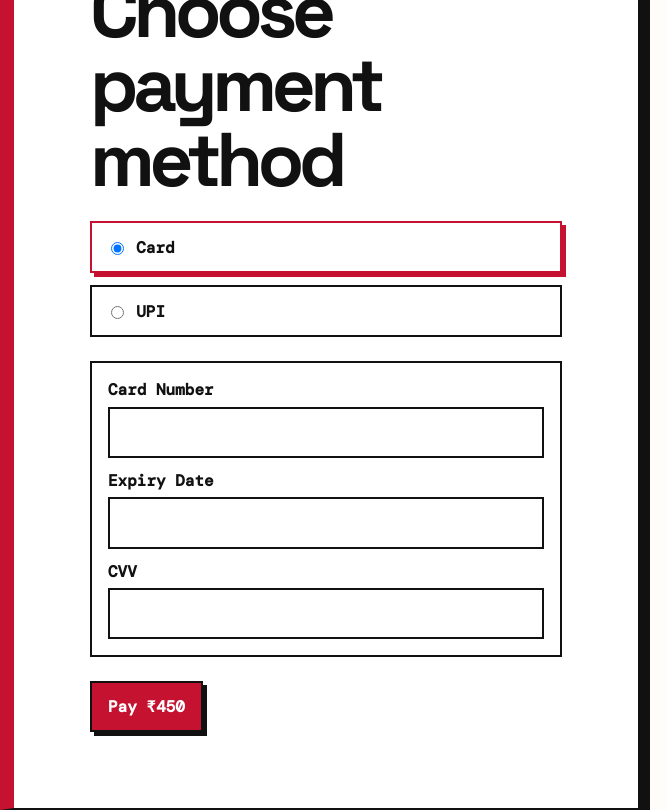
Test: PaymentFlow › returns a rejected booking to payment with a visible error and allows a retry
(page scrolled)
Click the button "Pay ₹450": point(146, 707) [90,681,203,732]
Wait 2000 ms
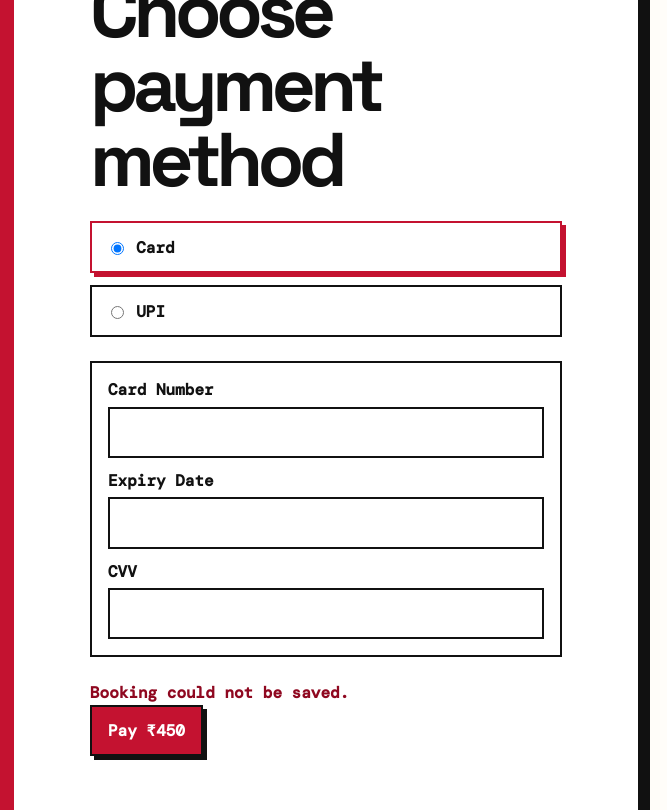
Expected: the message reads "Booking could not be saved.", [90,682,349,703]
Click the button "Pay ₹450": point(146, 731) [90,705,203,756]
Wait 2000 ms
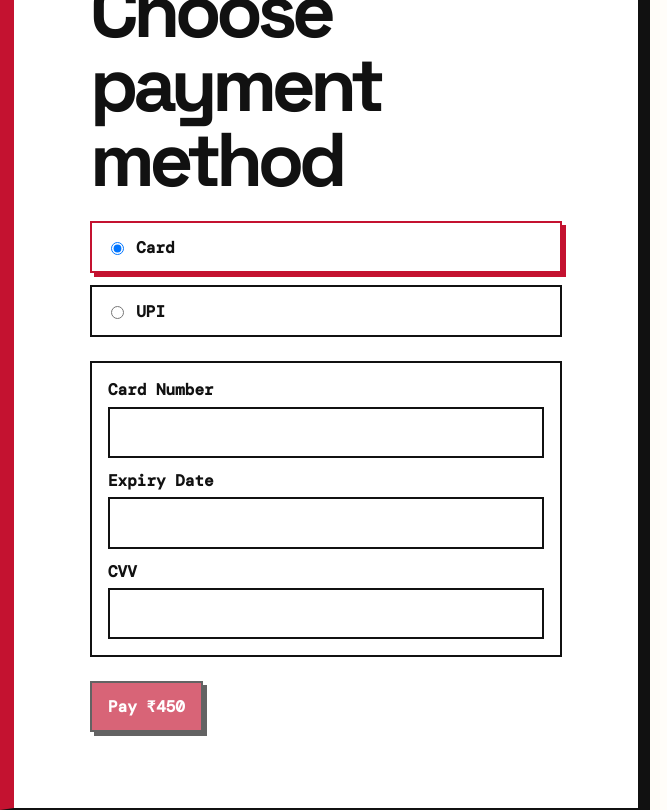
Expected: the message "Booking could not be saved." is gone
Expected: the button "Pay ₹450" is disabled, [90,681,203,732]
